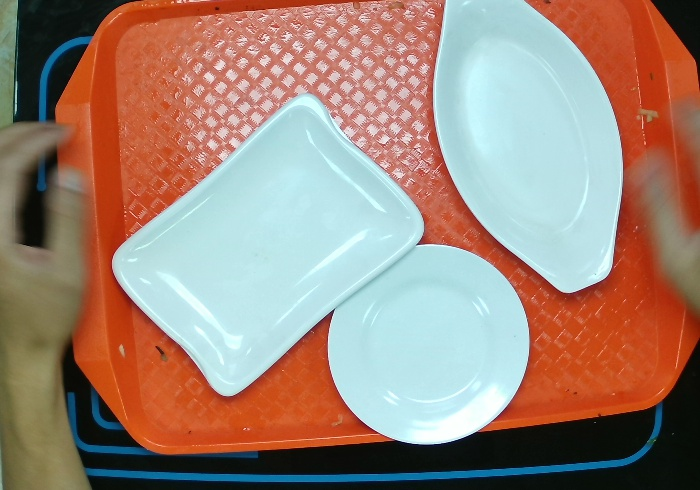RJxy-Si_Fang_Ao_Bian_Wan: (102, 89, 436, 403)
RJxy-Xiao_Yuan_Die: (321, 237, 530, 446)
RJxy-Yu_Pan: (427, 1, 628, 296)
